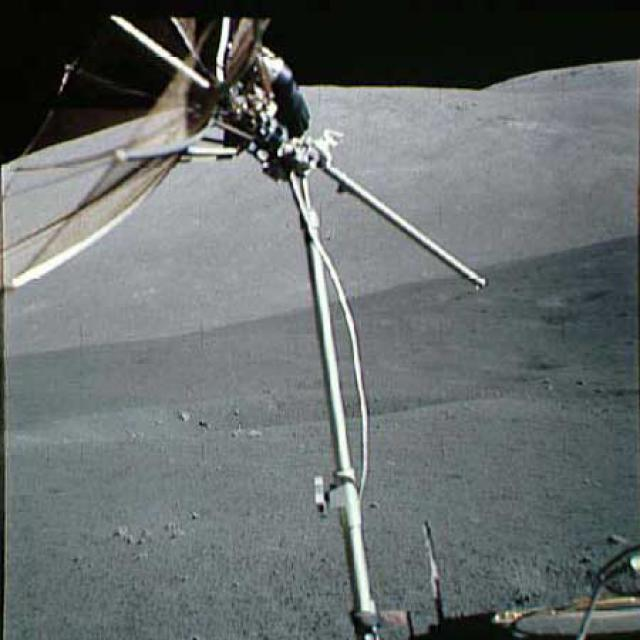artifact: (0, 7, 489, 324), (391, 511, 639, 638), (302, 322, 393, 636)
crater: (10, 382, 477, 438), (390, 339, 615, 369), (536, 282, 610, 308)
